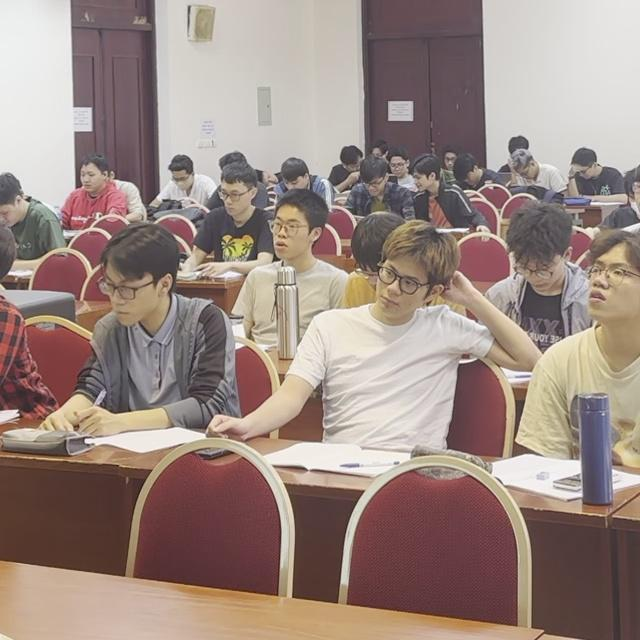Looking away: (0, 169, 33, 229), (524, 250, 556, 292), (168, 156, 194, 194), (81, 165, 96, 191), (286, 172, 304, 193), (413, 168, 427, 190), (578, 158, 592, 180), (520, 162, 535, 180), (391, 159, 405, 178), (366, 177, 379, 196), (463, 167, 477, 183), (351, 155, 363, 172)
Looking forward: (585, 254, 639, 318), (377, 254, 425, 317), (108, 268, 143, 322), (273, 209, 305, 256), (222, 178, 248, 216)
